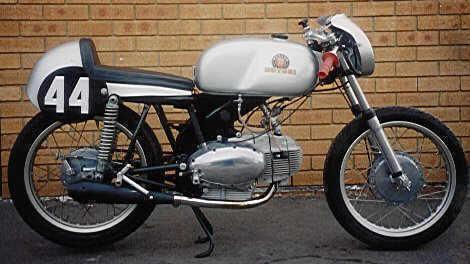motorcycle: (1, 7, 470, 251)
